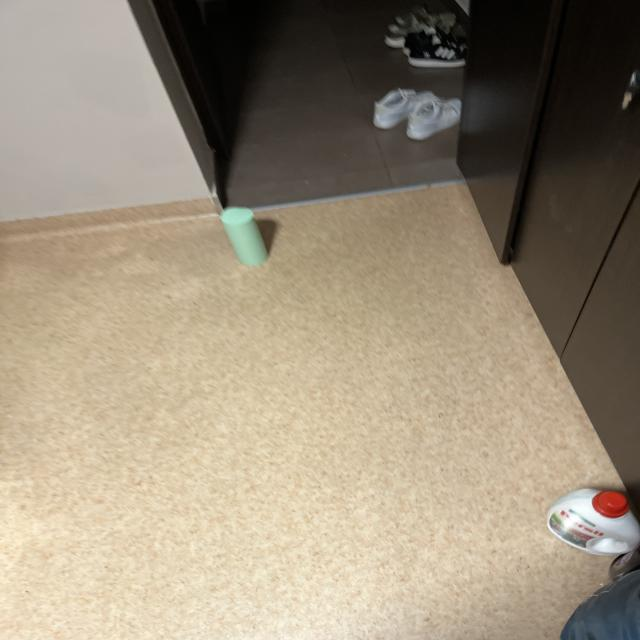meta: (220, 207, 268, 265)
